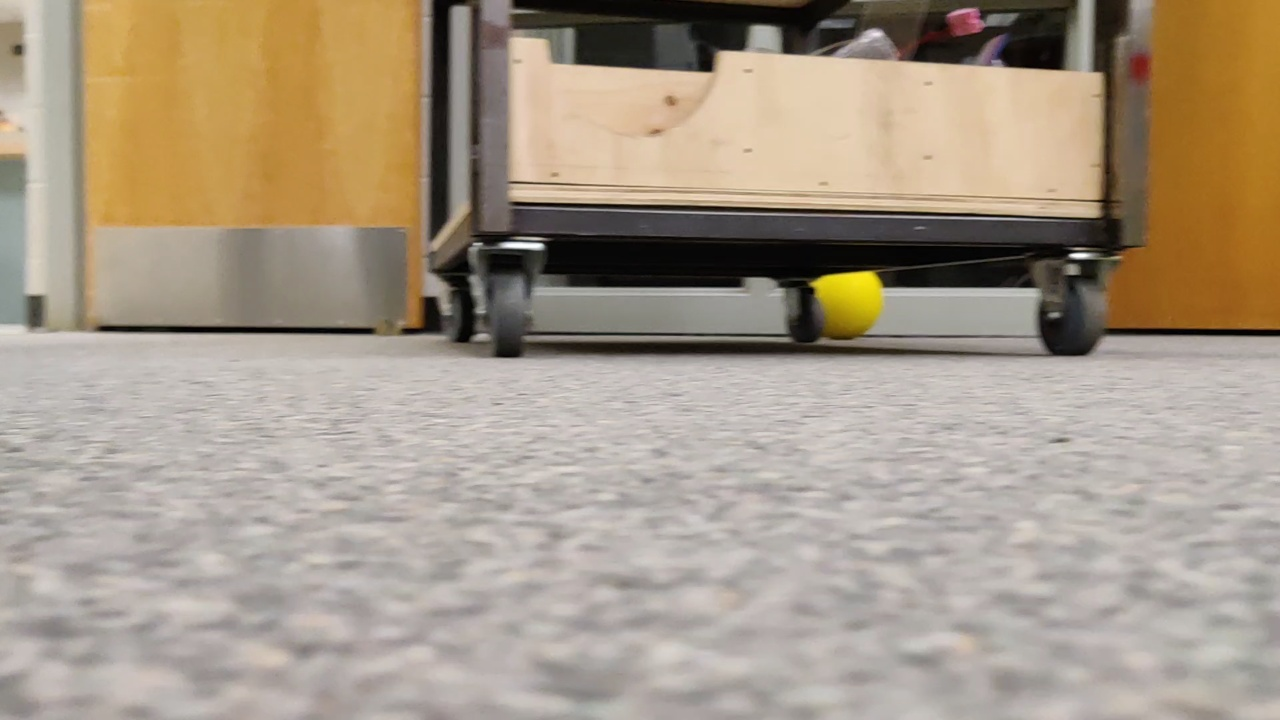Ball: (805, 264, 891, 340)
